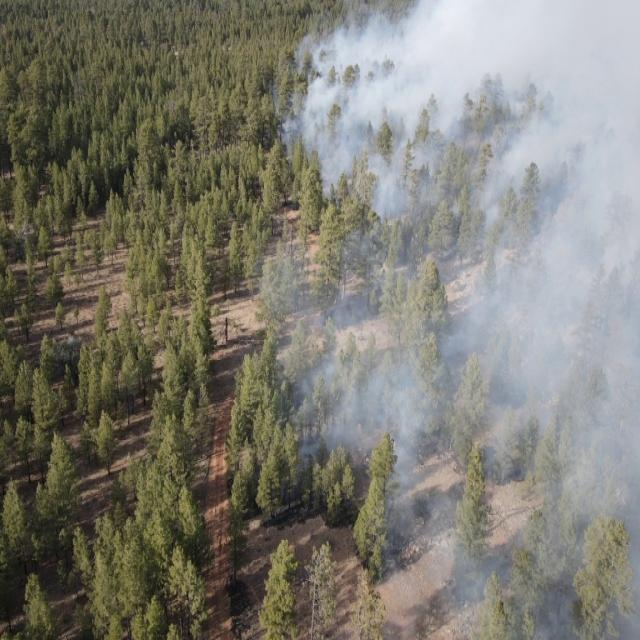smoke: (279, 0, 640, 254), (263, 249, 640, 475), (378, 471, 640, 640)
